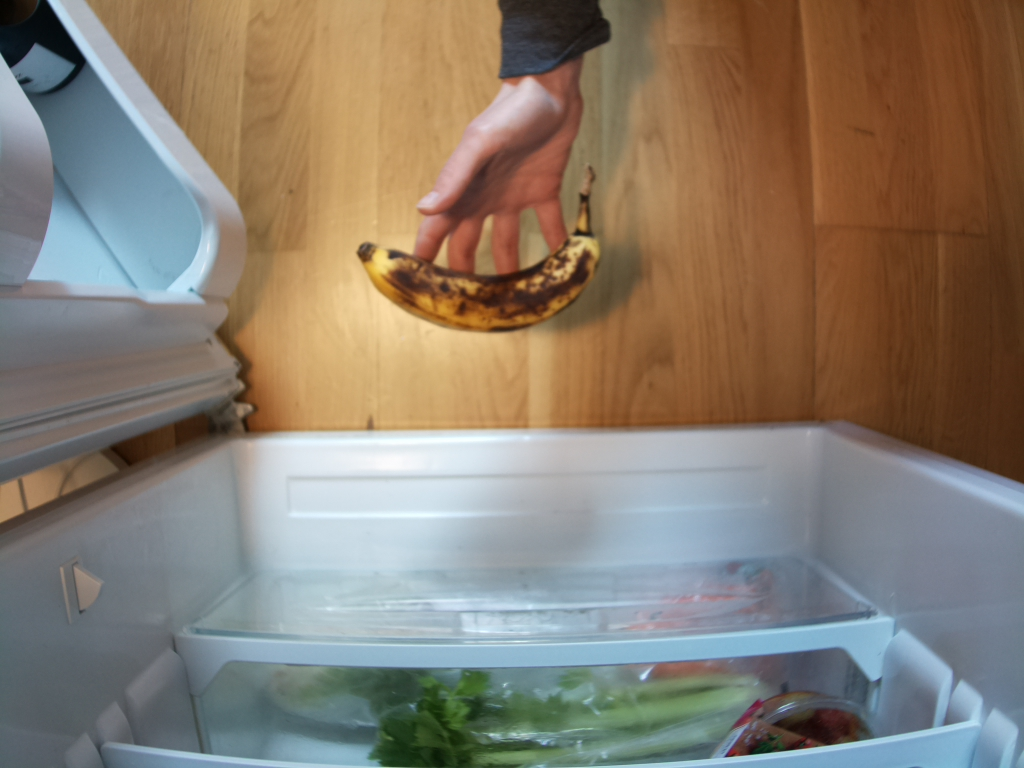banana-overripe: (356, 166, 601, 333)
